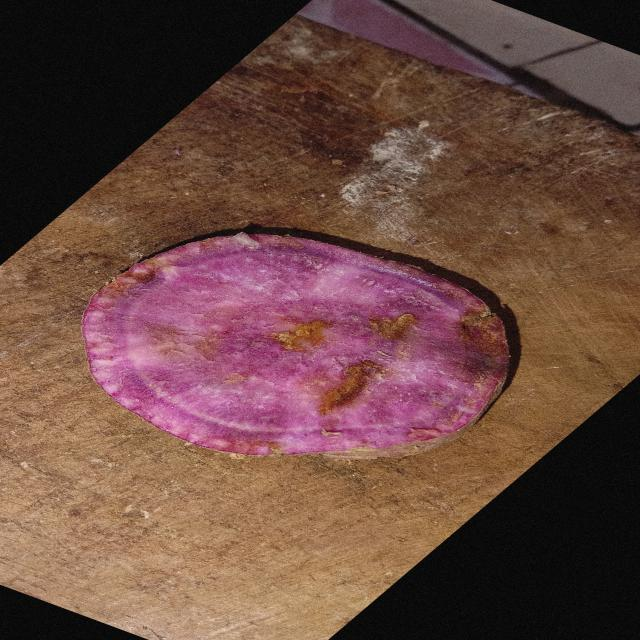Sick Sweet Potato_Tuber Rot: (82, 232, 509, 459)
